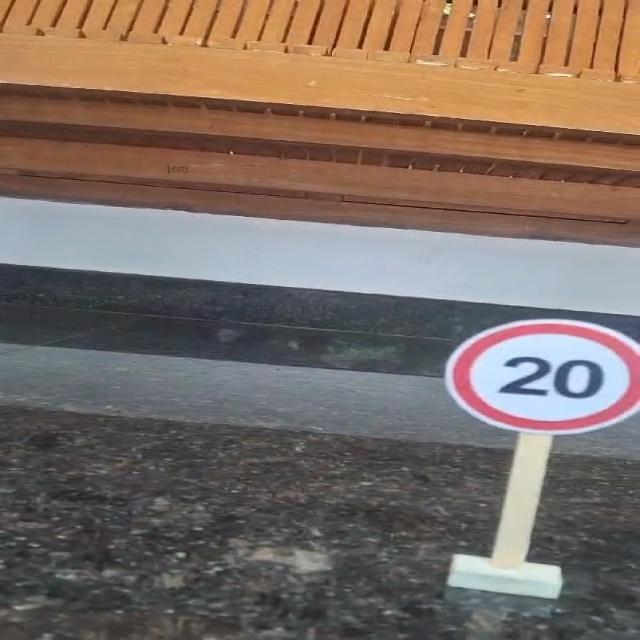Speed20: (428, 313, 640, 438)
